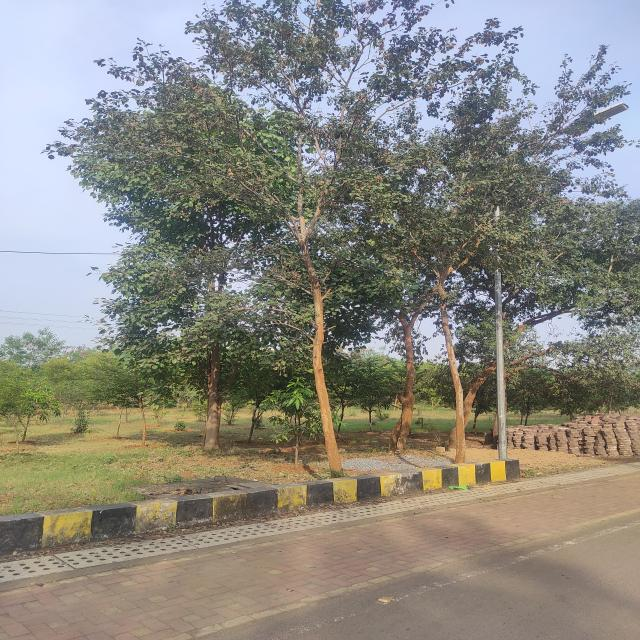Devakanchan tree: (128, 22, 545, 412)
